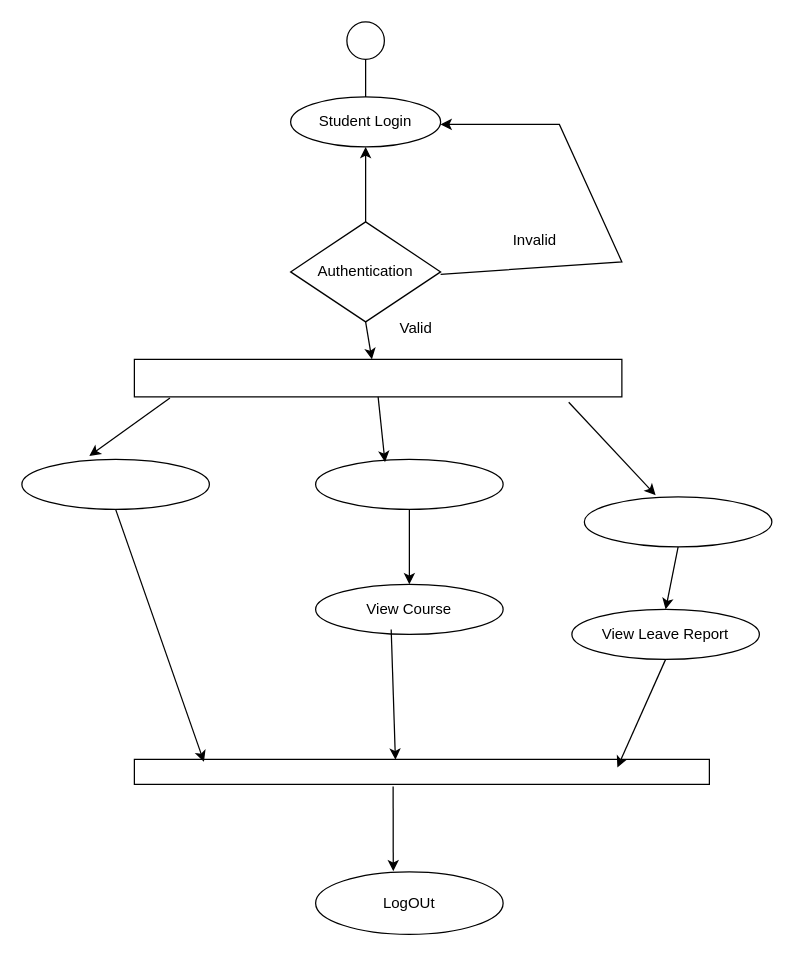
Some shapes in this 794 by 956 pixel diagram are drawn without their labels. The centre of each missing label's shape, as x and y in pixels:
"apply Course" goes at [408,483].
"apply Leave" goes at [677,521].
"View Attendance Report" goes at [115,483].
